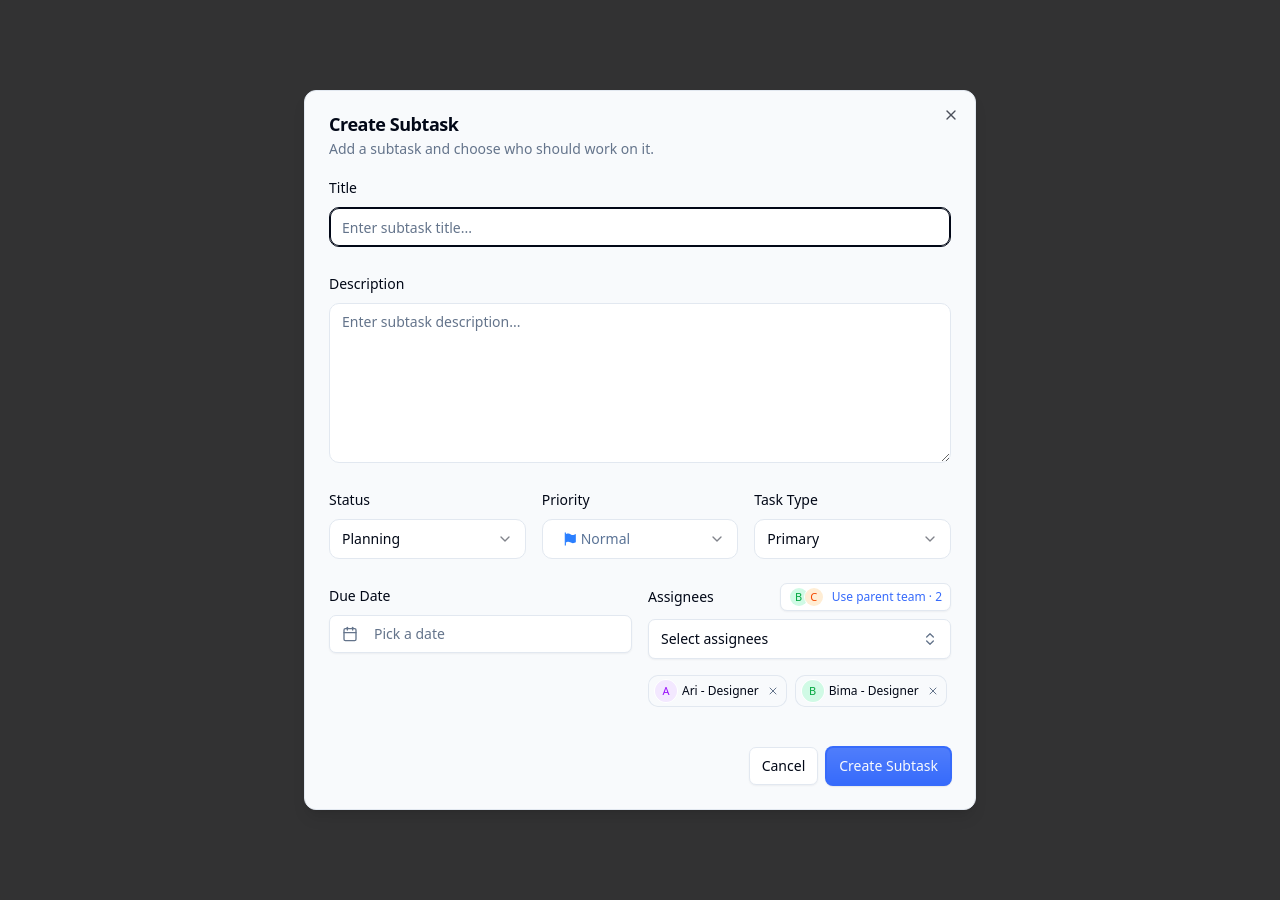
SubtaskDialog parent assignees › places the reuse action by Assignees and merges parent members with manual choices
Click the button "B C Use parent team · 2" at (865, 597), box 780,583 -> 951,611
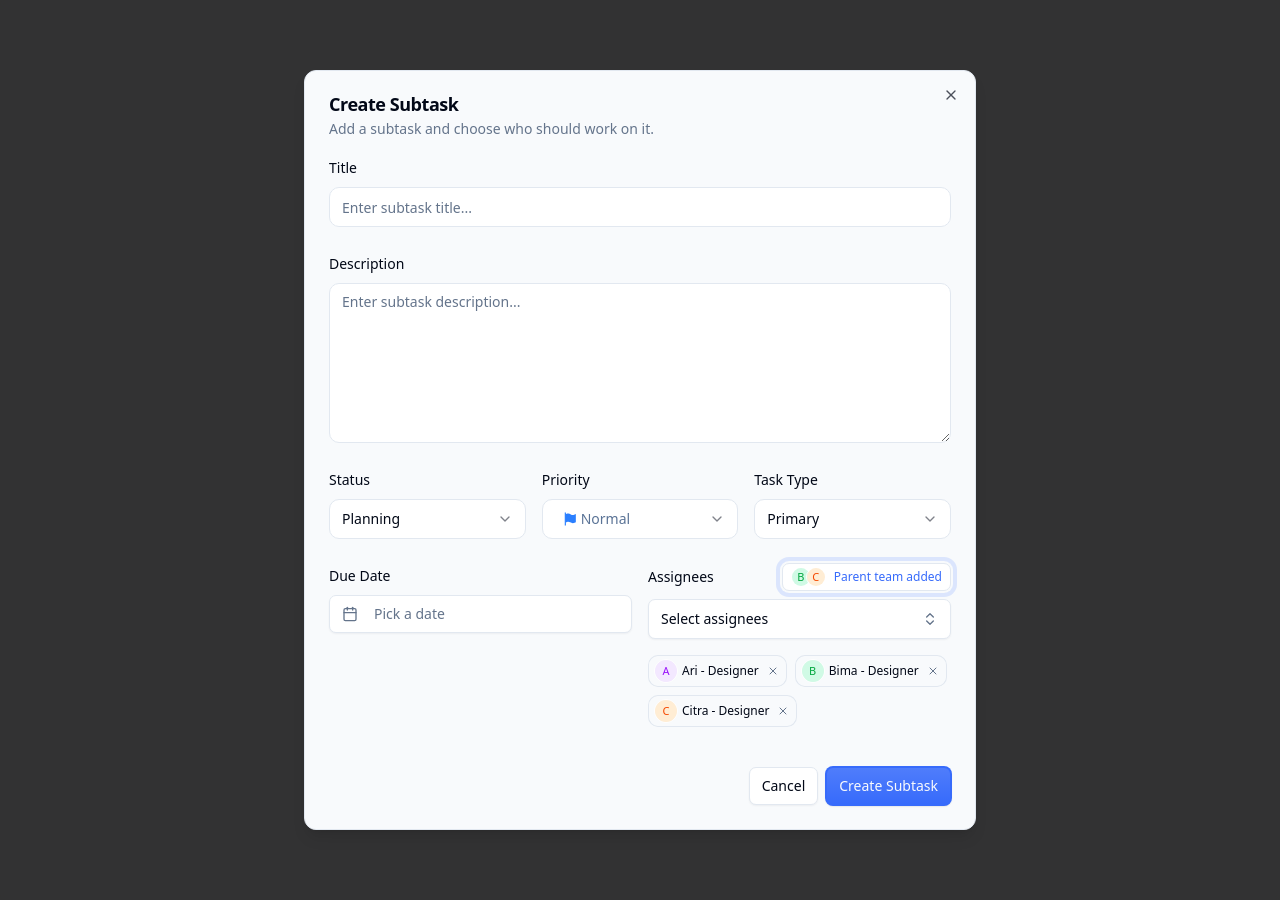
Expected: the text "Ari - Designer" is shown, 682,663 -> 759,679
Now the text "Citra - Designer" is shown, box 682,703 -> 770,719
Now the button "B C Parent team added" is shown, box 782,563 -> 951,591
